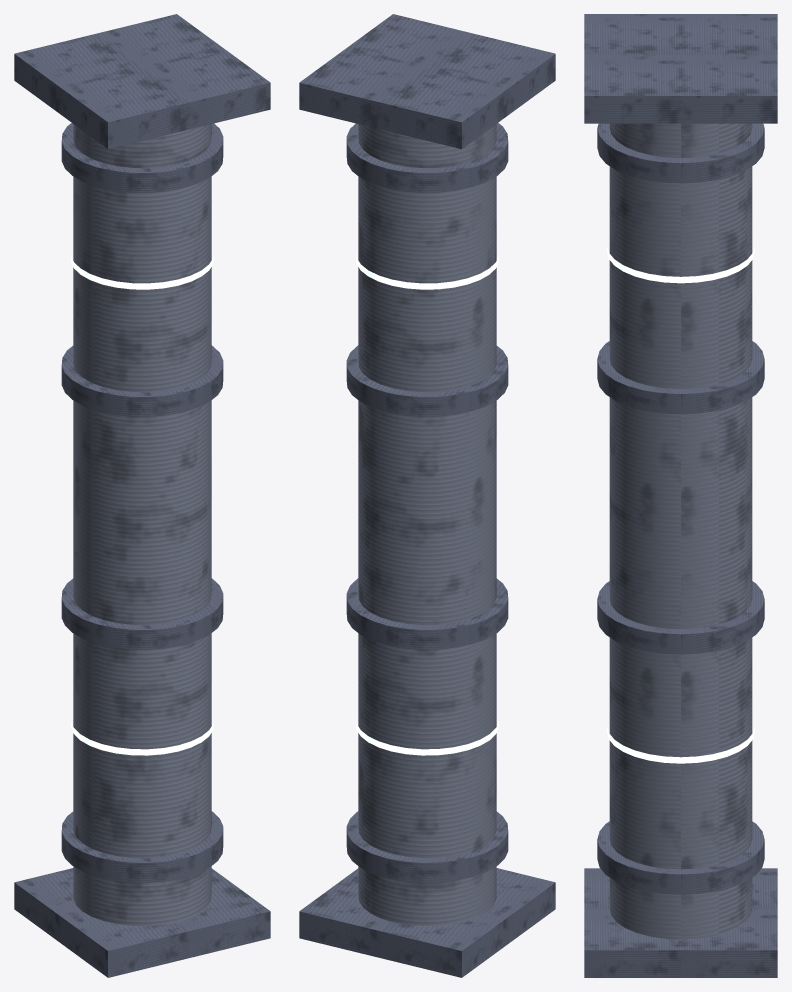
Rendered from pillar.glb.
The picture shows the model from 3 angles, left to right: view 1: azimuth 30°, elevation 25°; view 2: azimuth 150°, elevation 25°; view 3: azimuth 270°, elevation 25°; orthographic projection. The views are drawn at different scales.
Visible parts, largest first — view 1: pillar; view 2: pillar; view 3: pillar.
Part boxes in pixels (x1,y1,x2,y2): pillar: [14, 14, 270, 977]; pillar: [299, 14, 555, 977]; pillar: [584, 14, 777, 977].
Bounding box in the file's own units: 1.9 × 9.55 × 1.9.
3 materials, 2 textured.
